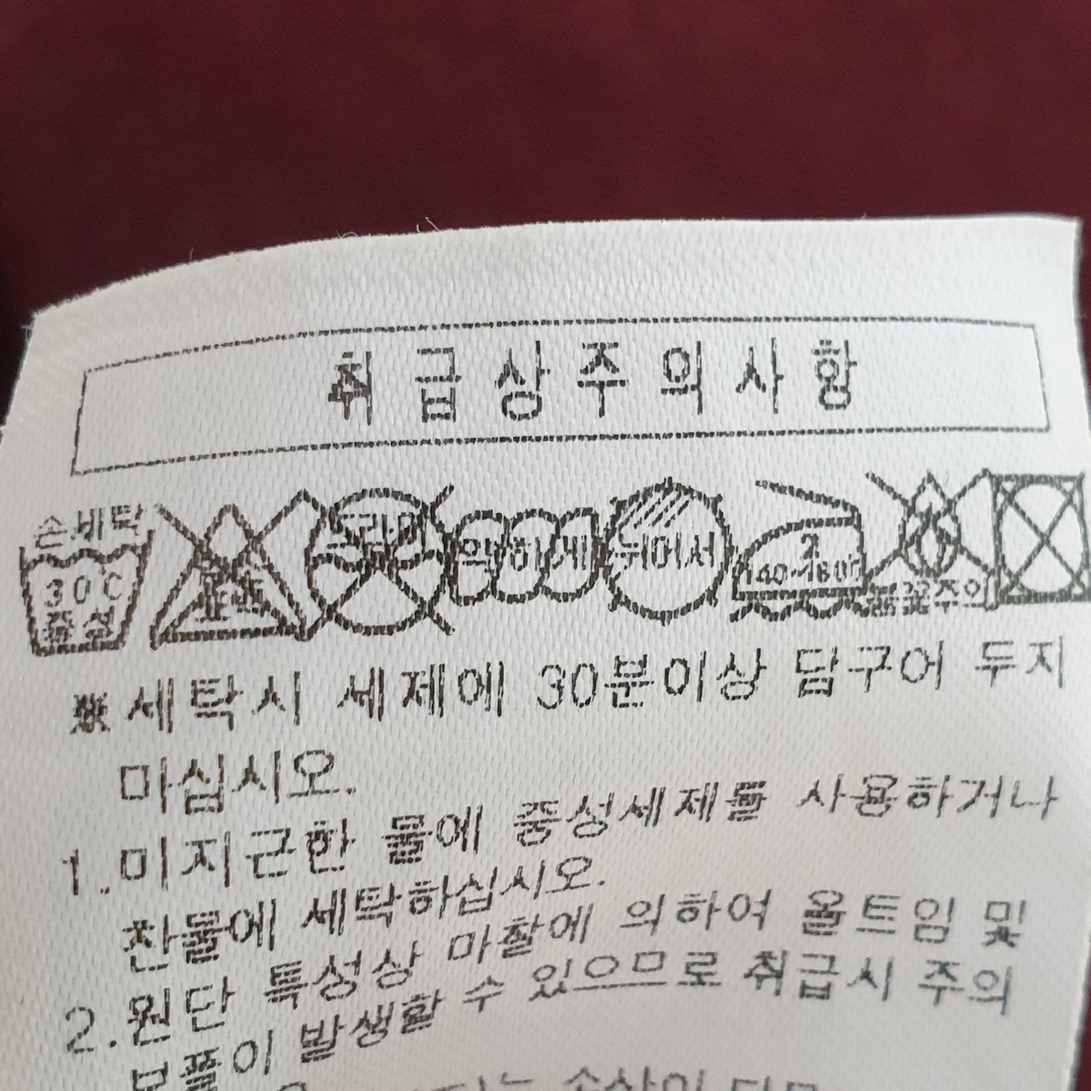KR_flat_dry_in_shade: (601, 467, 734, 624)
KR_gentle_wring: (452, 497, 604, 611)
KR_hand_wash_30_neutral: (12, 510, 150, 664)
KR_iron_medium_temp_with_cloth: (732, 480, 866, 614)
KR_no_chlorine_bleach: (148, 499, 305, 646)
KR_no_dry_clean: (303, 483, 447, 633)
KR_no_tumble_dry: (987, 471, 1091, 606)
